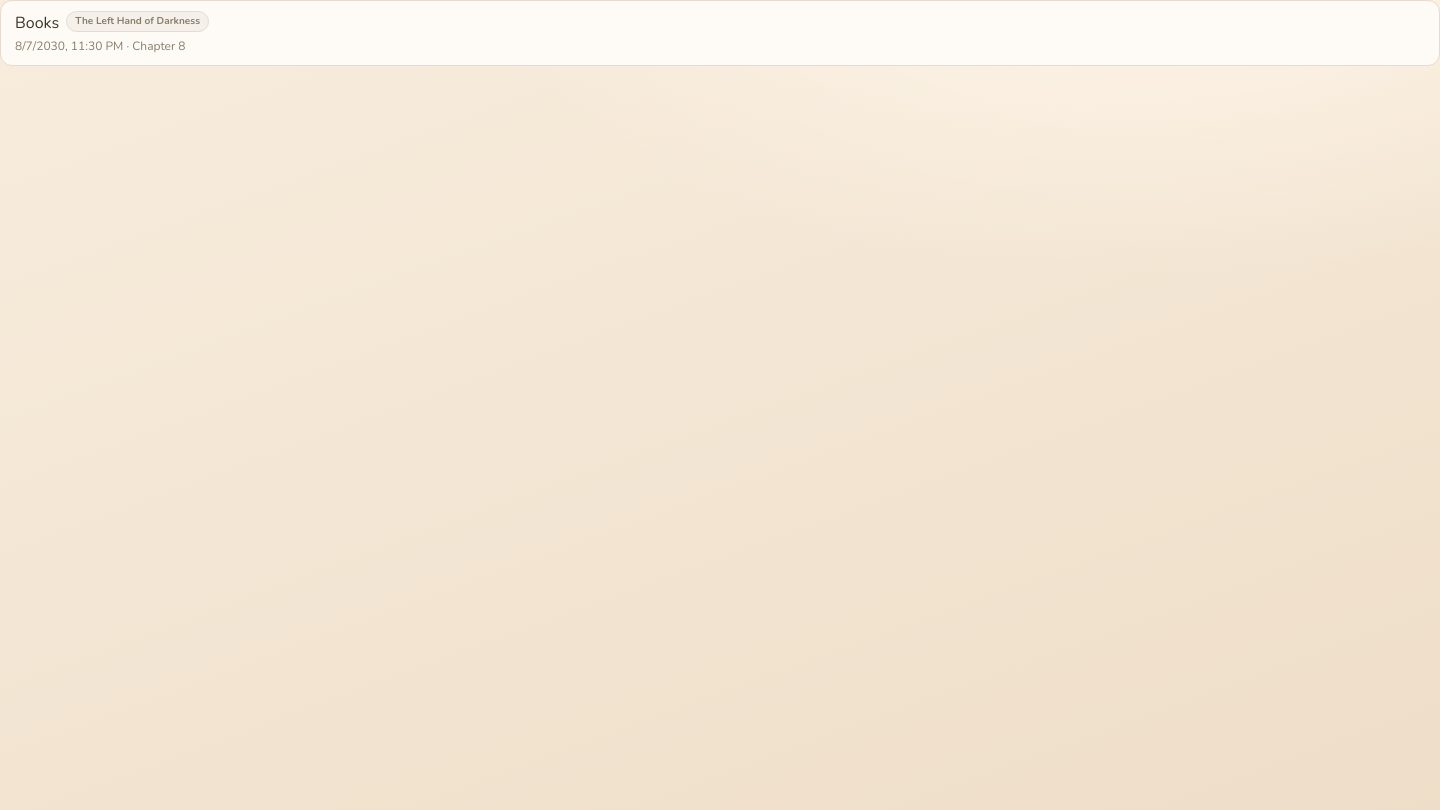
Scenario: BookClubMeetingFeature › leads with the linked book and keeps the meeting goal below
Click the link with aria-label "View The Left Hand of Darkness in the Book Club library" at (138, 22), box x1=66 y1=11 x2=209 y2=32
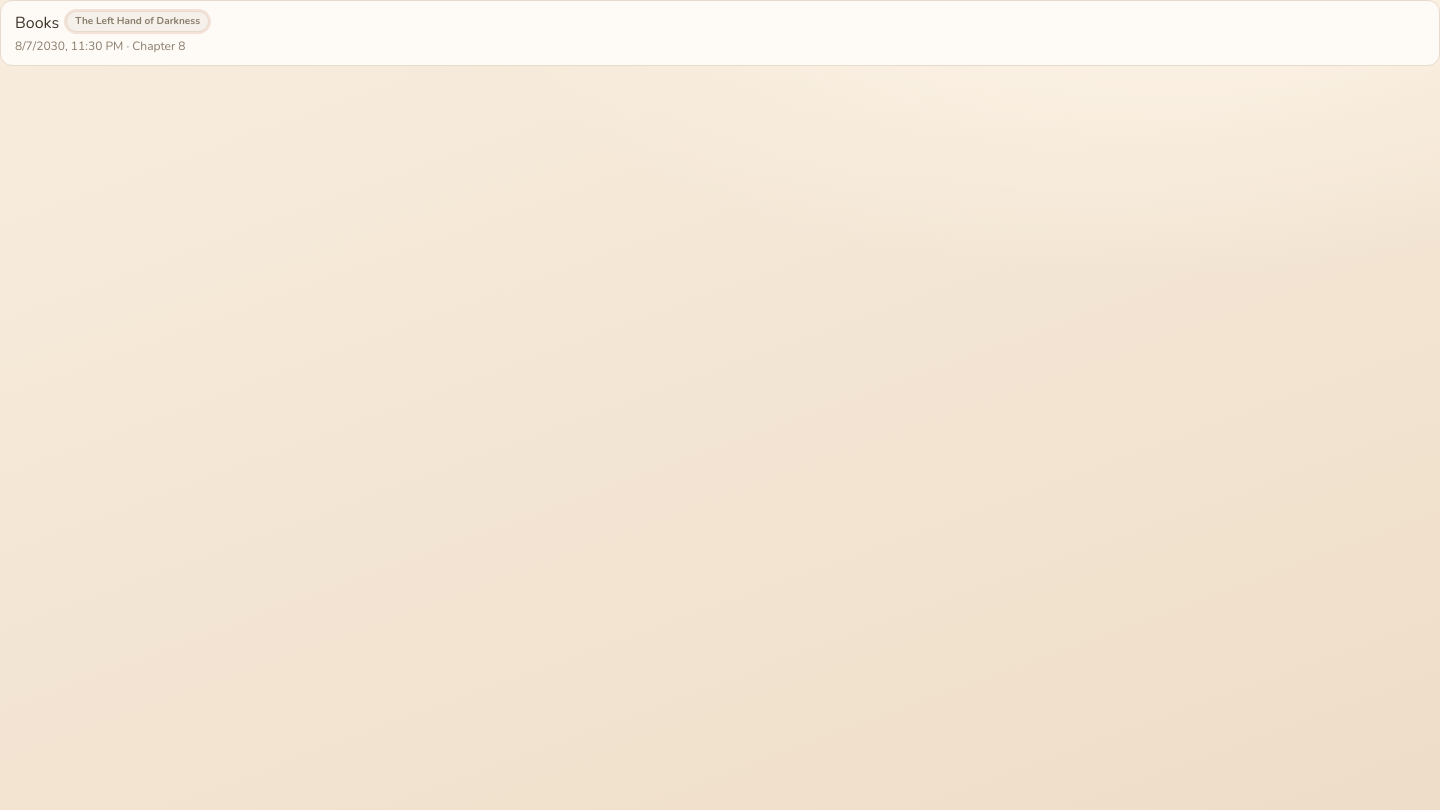
Click the button named "Open Book Club meeting for The Left Hand of Darkness, 8/7/20" at (720, 33), box x1=15 y1=11 x2=1425 y2=55
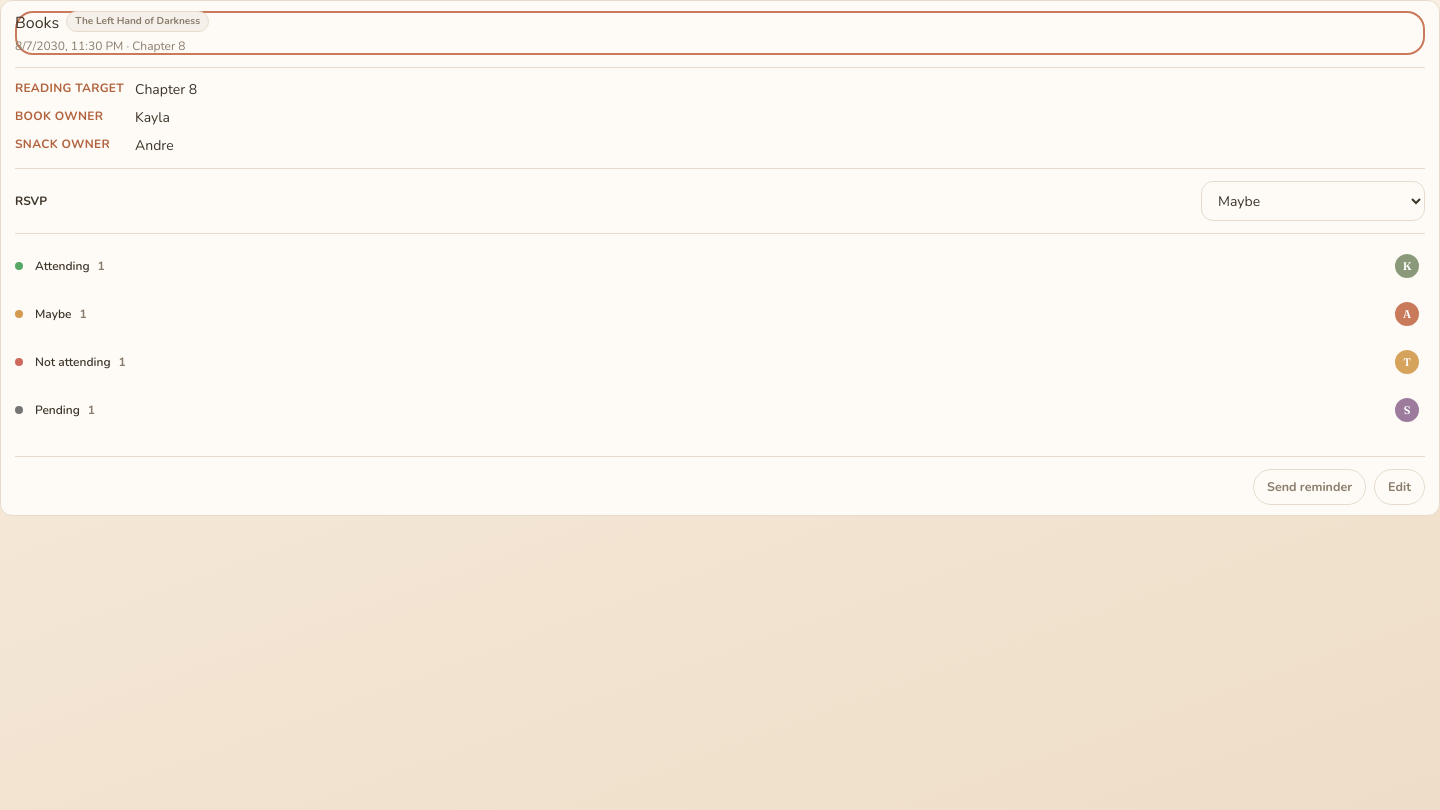
Expected: the text "Chapter 8" is shown, x1=135 y1=80 x2=197 y2=99
Result: the button named "Close Book Club meeting for The Left Hand of Darkness, 8/7/2" is expanded at x1=15 y1=11 x2=1425 y2=55
